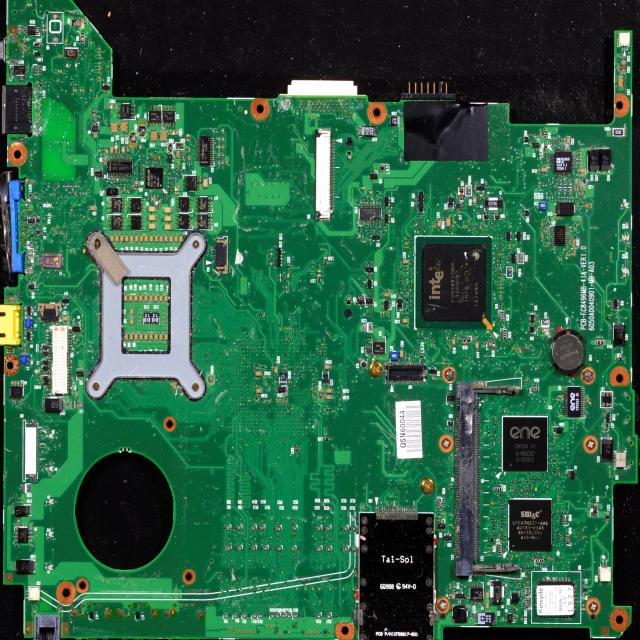Capacitor Jumper: (120, 121, 128, 135), (111, 122, 119, 133), (150, 130, 158, 141), (160, 130, 167, 141), (157, 331, 164, 341), (162, 207, 173, 213), (203, 177, 208, 189), (164, 216, 174, 222), (445, 217, 451, 227), (163, 224, 173, 230), (148, 215, 157, 221), (148, 223, 157, 229), (147, 294, 153, 303), (61, 316, 70, 322), (382, 292, 390, 298), (163, 333, 169, 341), (134, 293, 139, 302), (143, 293, 148, 302), (158, 294, 163, 303), (153, 332, 158, 341), (138, 332, 143, 341), (324, 364, 331, 370), (326, 388, 333, 394), (326, 394, 333, 400), (178, 235, 184, 242), (274, 365, 278, 375), (256, 388, 264, 393), (148, 207, 156, 212), (163, 294, 168, 302), (255, 371, 261, 377), (566, 136, 570, 145), (110, 145, 114, 154), (154, 293, 158, 302), (402, 318, 408, 324), (130, 332, 134, 341), (149, 332, 153, 341), (89, 206, 96, 211), (154, 235, 159, 242), (173, 235, 178, 242), (139, 235, 144, 242), (168, 235, 173, 242), (452, 338, 456, 346), (437, 220, 441, 228), (159, 235, 163, 243), (129, 235, 133, 243), (150, 235, 154, 243), (572, 240, 576, 248), (124, 294, 128, 302), (129, 294, 133, 302), (540, 168, 547, 172), (110, 234, 114, 241), (134, 236, 138, 243), (138, 295, 142, 302), (144, 333, 148, 340), (134, 333, 138, 340), (400, 350, 403, 358), (115, 146, 118, 154), (473, 197, 476, 205), (164, 235, 168, 241), (121, 235, 124, 243), (403, 260, 409, 264), (125, 332, 128, 340), (105, 148, 108, 155), (125, 235, 128, 242), (145, 235, 148, 242), (476, 342, 478, 351), (580, 170, 586, 173), (573, 250, 576, 256), (104, 158, 106, 166), (541, 222, 544, 227), (541, 233, 544, 238), (115, 236, 118, 241), (122, 146, 124, 152), (474, 185, 476, 191), (556, 217, 560, 220), (552, 248, 556, 250), (566, 254, 570, 256), (545, 242, 548, 244), (545, 245, 548, 247), (563, 248, 566, 250), (580, 216, 582, 218), (580, 219, 582, 221)
Connector: (455, 382, 479, 577), (22, 419, 40, 481)
IC: (140, 156, 168, 192), (562, 385, 584, 417), (551, 149, 574, 177), (197, 135, 215, 166), (108, 157, 132, 179), (550, 225, 570, 246), (14, 526, 32, 544), (469, 582, 484, 603), (10, 381, 23, 403), (11, 64, 28, 76), (26, 24, 40, 36), (506, 611, 516, 624), (91, 123, 101, 134), (41, 375, 49, 386), (366, 298, 374, 306), (358, 296, 364, 306)
Resistor Jumper: (276, 524, 283, 532), (81, 34, 85, 46), (292, 524, 298, 532), (261, 546, 269, 552), (224, 546, 232, 552), (276, 546, 284, 552), (250, 524, 257, 530), (235, 525, 242, 531), (259, 525, 266, 531), (250, 545, 257, 551), (462, 338, 470, 343), (315, 525, 323, 530), (290, 546, 298, 551), (324, 614, 332, 619), (291, 614, 299, 619), (350, 526, 357, 531), (325, 547, 332, 552), (268, 614, 275, 619), (342, 548, 350, 552), (225, 524, 231, 529), (326, 527, 332, 532), (352, 546, 357, 552), (223, 613, 229, 618), (286, 614, 292, 619), (316, 547, 323, 551), (241, 614, 248, 618), (257, 614, 262, 619), (236, 546, 242, 550), (316, 614, 321, 618), (233, 614, 238, 618), (251, 614, 256, 618), (344, 527, 348, 531), (280, 615, 285, 618), (275, 615, 280, 618)
Transistor: (531, 572, 581, 624), (127, 214, 146, 232), (126, 197, 146, 213), (106, 216, 126, 232), (118, 102, 135, 120), (183, 174, 201, 191), (107, 197, 126, 213), (195, 197, 212, 213), (162, 106, 175, 126), (195, 214, 212, 229), (176, 215, 193, 230), (372, 336, 386, 354), (177, 196, 192, 212), (150, 106, 162, 125), (95, 167, 103, 180), (73, 322, 80, 336), (567, 470, 576, 480), (437, 520, 446, 530), (382, 300, 391, 310), (77, 368, 83, 381), (446, 394, 454, 403), (446, 417, 454, 426), (504, 232, 512, 241), (383, 196, 390, 206), (510, 253, 517, 263), (370, 173, 378, 181), (276, 258, 283, 267), (418, 202, 424, 212), (515, 232, 522, 240), (275, 248, 282, 256), (419, 192, 424, 201), (385, 214, 390, 223), (523, 210, 530, 216), (373, 236, 380, 242), (30, 283, 36, 290), (532, 143, 540, 148), (477, 186, 485, 191), (494, 214, 500, 220), (524, 136, 528, 144), (484, 215, 489, 219)
